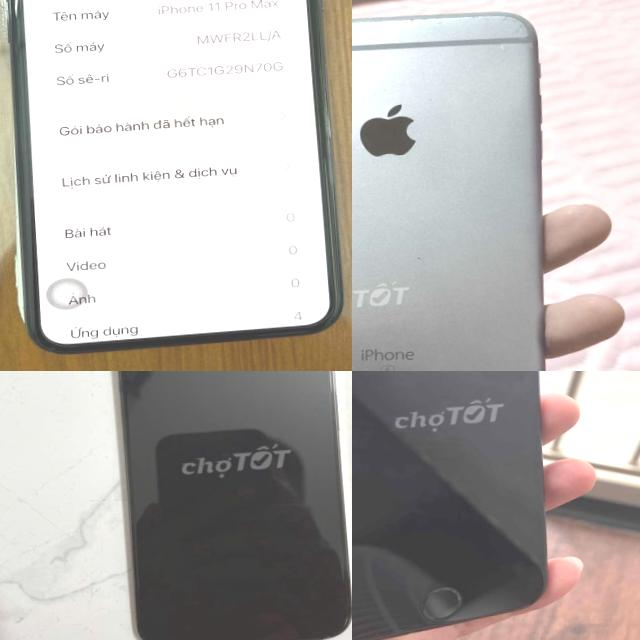scratch: (352, 0, 544, 60), (414, 581, 464, 622)
